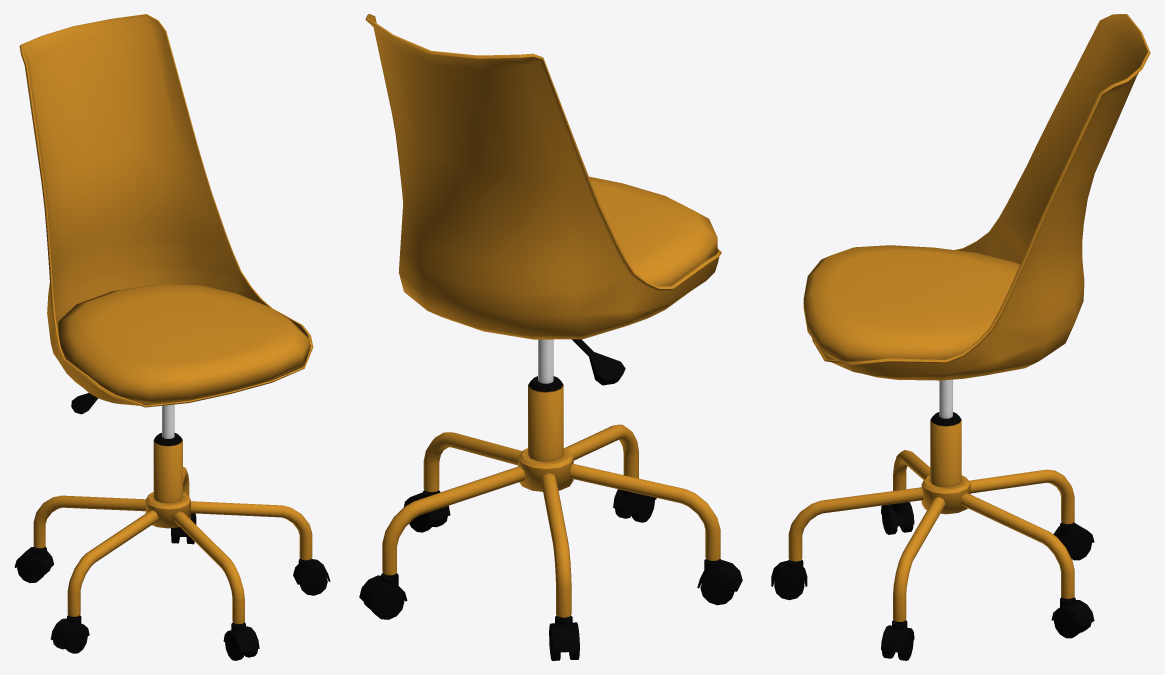
The model's file is chair.FBX.
The picture shows the model from 3 angles, left to right: view 1: azimuth 30°, elevation 25°; view 2: azimuth 150°, elevation 25°; view 3: azimuth 270°, elevation 25°; orthographic projection. The views are drawn at different scales.
Visible parts, largest first — view 1: chair_low; view 2: chair_low; view 3: chair_low.
Part boxes in pixels (x1,y1,x2,y2): chair_low: (14, 14, 330, 660); chair_low: (359, 14, 742, 660); chair_low: (771, 14, 1150, 660).
Size of the model in its own units: 0.00363 by 0.00646 by 0.00405.
Materials: 1 (1 with a texture image).
